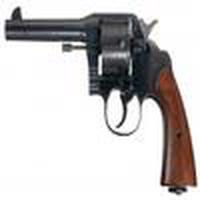gun: (1, 10, 200, 197)
